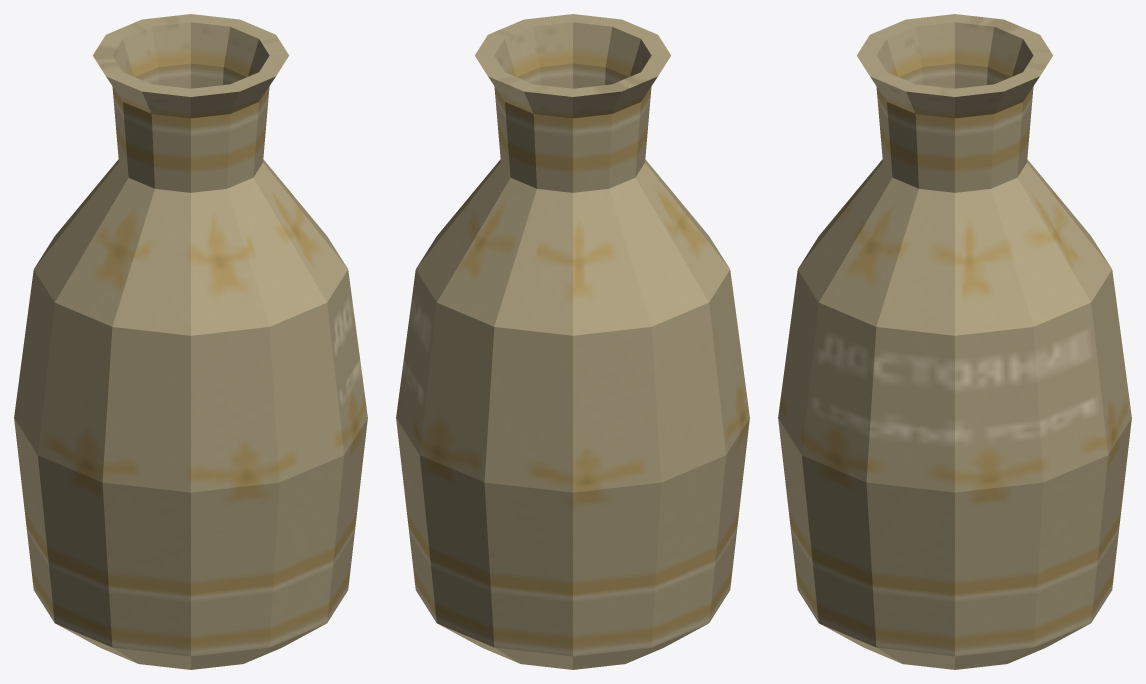
Rendered from MD_34_FloorVase.fbx.
The picture shows the model from 3 angles, left to right: view 1: azimuth 30°, elevation 25°; view 2: azimuth 150°, elevation 25°; view 3: azimuth 270°, elevation 25°; orthographic projection.
Visible parts, largest first — view 1: MD_34_FloorVase_fluted_vase; view 2: MD_34_FloorVase_fluted_vase; view 3: MD_34_FloorVase_fluted_vase.
Boxes of the visible parts, x1,y1,x2,y2 form: MD_34_FloorVase_fluted_vase: [14, 14, 367, 669]; MD_34_FloorVase_fluted_vase: [396, 14, 749, 669]; MD_34_FloorVase_fluted_vase: [778, 14, 1131, 669].
Bounding box in the file's own units: 0.54 × 0.96 × 0.54.
Materials: 1 (1 with a texture image).
